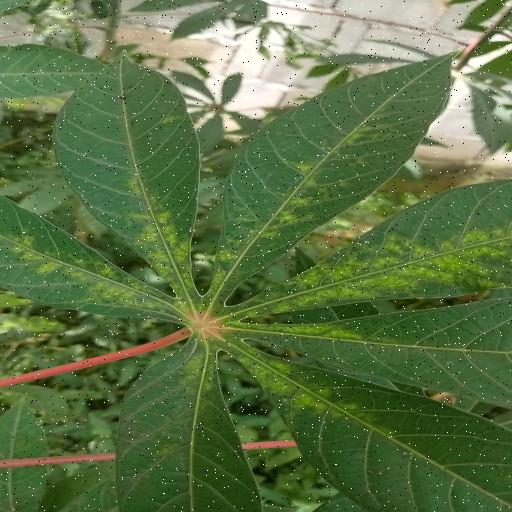Cassava_Mosaic: (0, 54, 512, 512)
